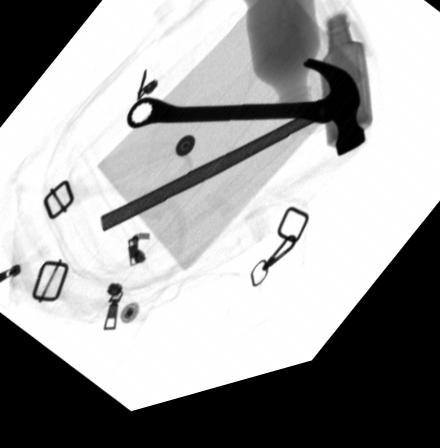Hammer: (99, 74, 363, 238)
Wrench: (125, 105, 340, 141)
